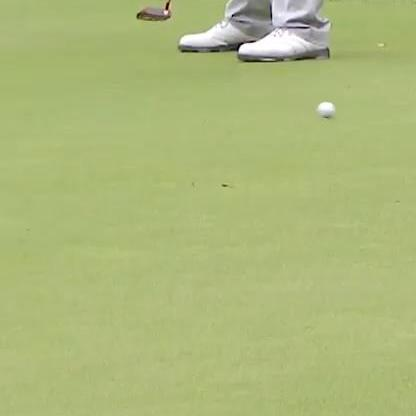golfball: (315, 98, 334, 117)
